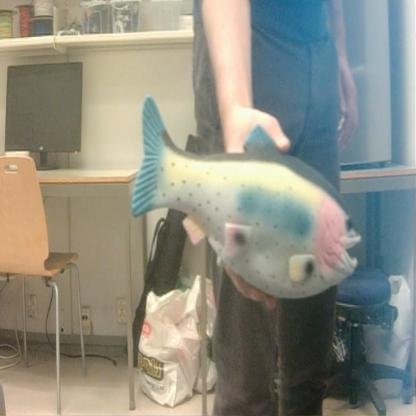rubberfish: (132, 93, 362, 303)
